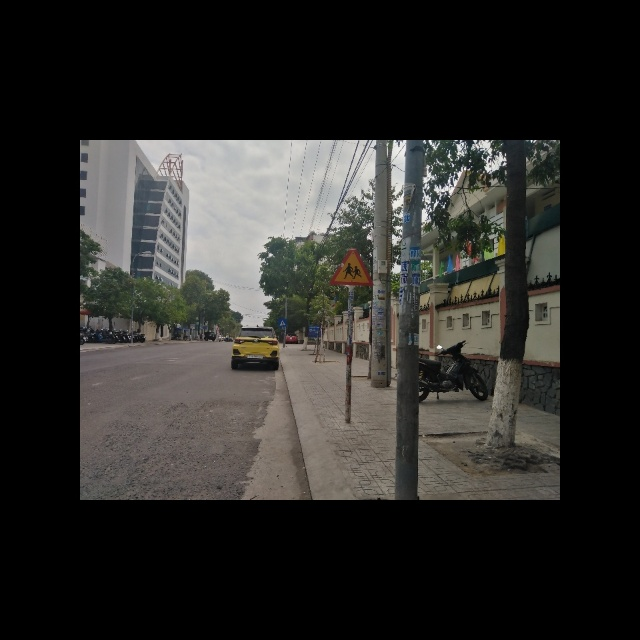Trẻ em ngang qua: (330, 248, 375, 286)
Đường dành cho người đi bộ: (277, 317, 287, 327)
